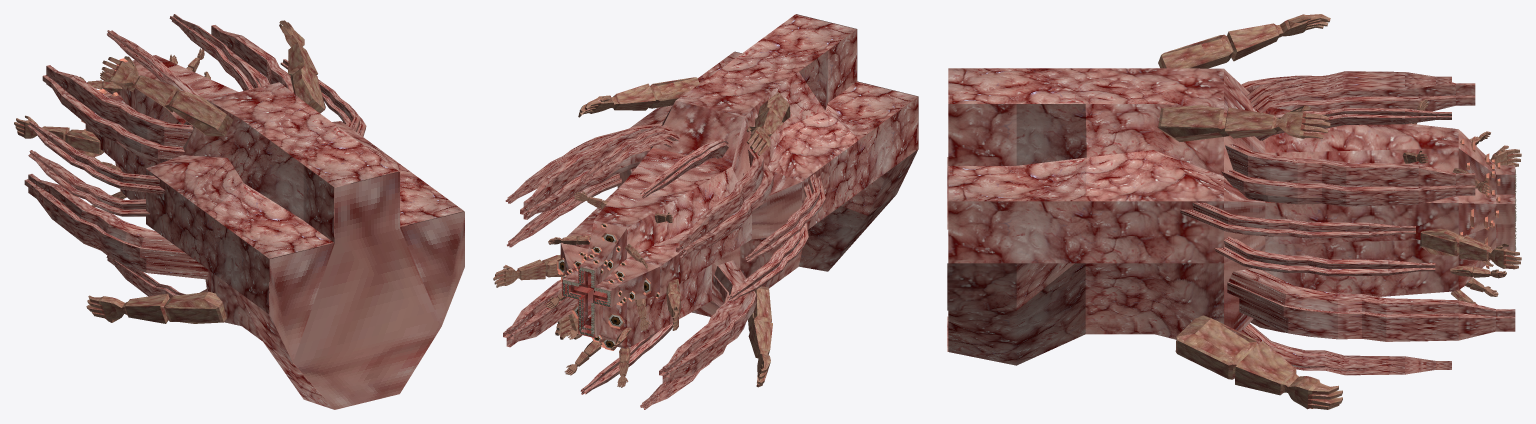
Rendered from rapture_angel.gltf.
3 renders of one model, left to right at view 1: azimuth 30°, elevation 25°; view 2: azimuth 150°, elevation 25°; view 3: azimuth 270°, elevation 25°, orthographic. The views are drawn at different scales.
Visible parts, largest first — view 1: raw_cross_body, cuboid (×4), raw_cross_medium_body_r_bottom, raw_cross_medium_body_r_top, raw_cross_small_body_r_top_mid (×2), raw_cross_small_body_r_bottom_mid, raw_cross_medium_body_l_top, raw_cross_small_body_l_top, raw_cross_small_body_r_top, raw_cross_small_body_r_bottom; view 2: raw_cross_body, cuboid (×8), raw_cross_medium_body_r_bottom, raw_cross_medium_body_r_top, raw_cross_medium_body_l_top, raw_cross_small_body_r_bottom_mid (×2), raw_cross_small_body_r_top_mid (×2), raw_cross_medium_body_l_bottom, raw_cross_small_body_l_top, raw_cross_small_body_r_top, raw_cross_small_body_l_bottom, raw_cross_small_body_r_bottom; view 3: raw_cross_body, cuboid (×4), raw_cross_medium_body_l_bottom, raw_cross_medium_body_l_top, raw_cross_medium_body_r_top, raw_cross_small_body_r_top, raw_cross_small_body_r_top_mid, raw_cross_small_body_r_bottom_mid, raw_cross_small_body_l_bottom, raw_cross_small_body_l_top.
Boxes of the visible parts, <box> form: raw_cross_body: <box>85,55,464,409</box>; cuboid (×4): <box>14,20,325,323</box>; raw_cross_medium_body_r_bottom: <box>24,174,208,279</box>; raw_cross_medium_body_r_top: <box>42,65,193,163</box>; raw_cross_small_body_r_top_mid (×2): <box>27,59,366,193</box>; raw_cross_small_body_r_bottom_mid: <box>28,150,149,216</box>; raw_cross_medium_body_l_top: <box>211,25,294,93</box>; raw_cross_small_body_l_top: <box>169,14,260,90</box>; raw_cross_small_body_r_top: <box>107,30,199,96</box>; raw_cross_small_body_r_bottom: <box>106,256,207,297</box>; raw_cross_body: <box>560,14,918,348</box>; cuboid (×8): <box>493,77,790,387</box>; raw_cross_medium_body_r_bottom: <box>659,260,756,385</box>; raw_cross_medium_body_r_top: <box>676,146,773,257</box>; raw_cross_medium_body_l_top: <box>520,123,662,219</box>; raw_cross_small_body_r_bottom_mid (×2): <box>507,173,808,301</box>; raw_cross_small_body_r_top_mid (×2): <box>505,130,825,262</box>; raw_cross_medium_body_l_bottom: <box>503,280,578,347</box>; raw_cross_small_body_l_top: <box>580,125,679,184</box>; raw_cross_small_body_r_top: <box>640,139,728,198</box>; raw_cross_small_body_l_bottom: <box>580,323,672,394</box>; raw_cross_small_body_r_bottom: <box>640,361,711,409</box>; raw_cross_body: <box>947,68,1515,365</box>; cuboid (×4): <box>1158,14,1521,409</box>; raw_cross_medium_body_l_bottom: <box>1227,268,1515,341</box>; raw_cross_medium_body_l_top: <box>1221,143,1475,206</box>; raw_cross_medium_body_r_top: <box>1241,75,1475,111</box>; raw_cross_small_body_r_top: <box>1247,71,1451,112</box>; raw_cross_small_body_r_top_mid: <box>1180,202,1415,238</box>; raw_cross_small_body_r_bottom_mid: <box>1214,236,1435,276</box>; raw_cross_small_body_l_bottom: <box>1240,323,1451,375</box>; raw_cross_small_body_l_top: <box>1255,108,1451,140</box>.
Bounding box in the file's own units: 15.64 × 14.87 × 25.96.
4 materials, 4 textured.
